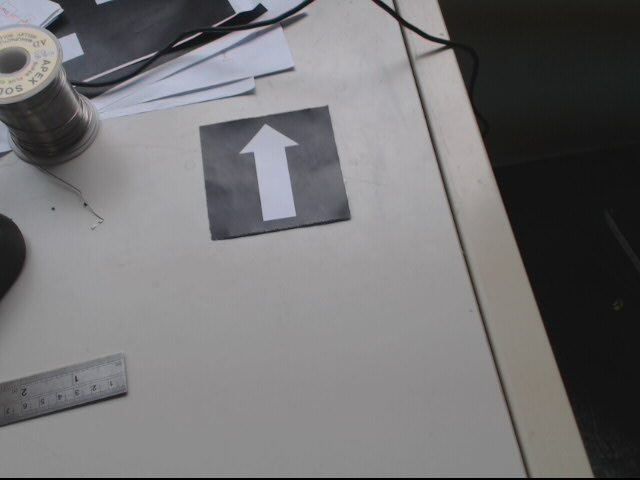straight: (201, 103, 351, 240)
